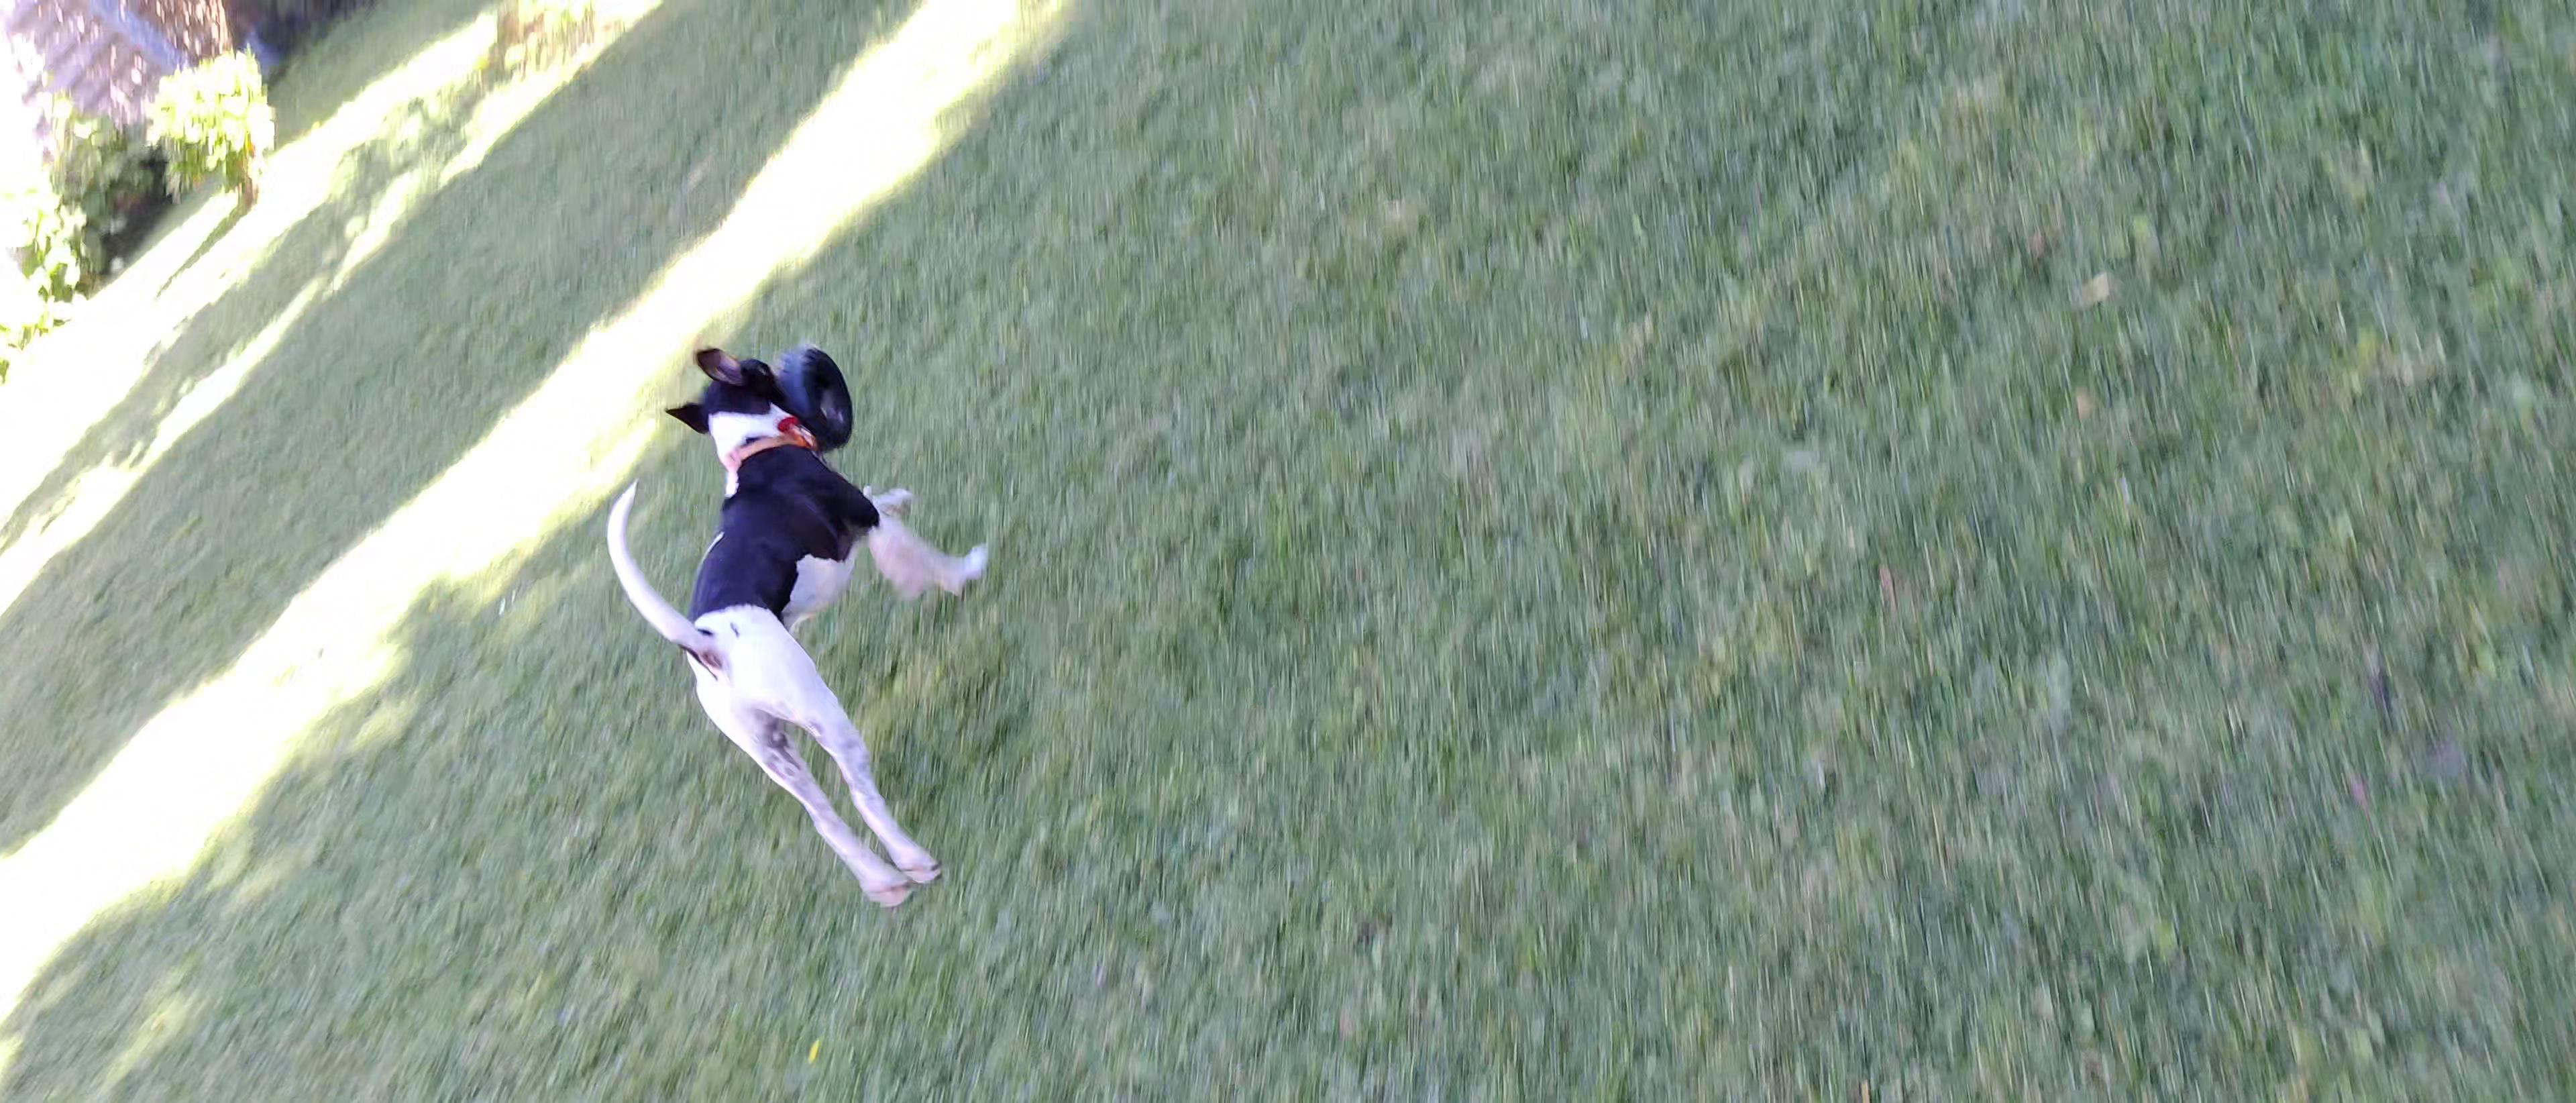Dog: (595, 344, 992, 911)
